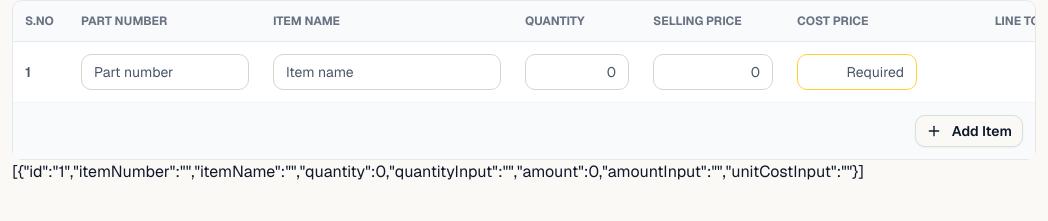
InvoiceItemsEditor › finds and links an inventory item by name when it has no part number
Step 1. Type "BRAKE SHOE" into the field named "Row 1 item name" → {"x": 387, "y": 72}, box [273,54,501,90]
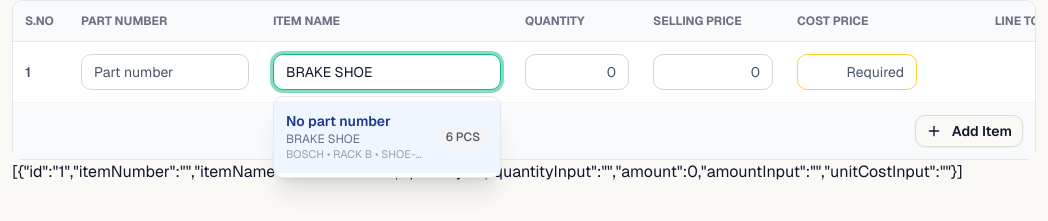
Expected: the text "No part number" is shown, [286,112,391,130]
Expected: the text "BOSCH • RACK B • SHOE-01" is shown, [286,147,426,163]
Step 2. Press Enter
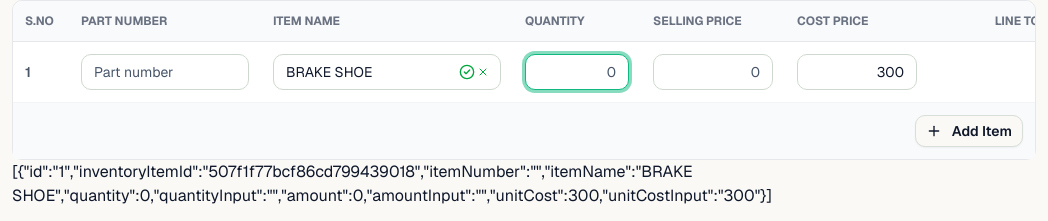
Expected: the field named "Row 1 part number" is empty, [81,54,249,90]
Expected: the number field named "Row 1 cost price" holds "300", [797,54,917,90]
